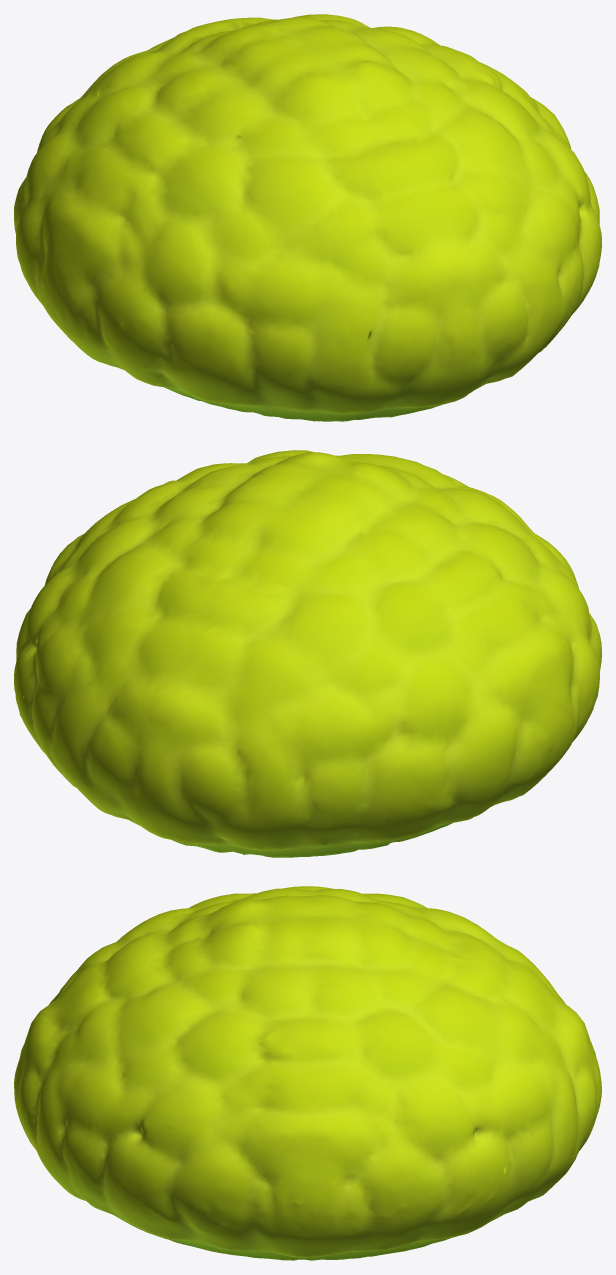
The model's file is base_basic_pbr.glb.
The picture shows the model from 3 angles, top to bottom: view 1: azimuth 30°, elevation 25°; view 2: azimuth 150°, elevation 25°; view 3: azimuth 270°, elevation 25°; orthographic projection. The views are drawn at different scales.
Visible parts, largest first — view 1: model; view 2: model; view 3: model.
Boxes of the visible parts, box(x1,y1,x2,y2) form: model: box(14, 14, 601, 421); model: box(14, 450, 601, 857); model: box(14, 886, 601, 1260).
Size of the model in its own units: 1.79 by 0.9596 by 1.9.
1 material, 1 textured.
